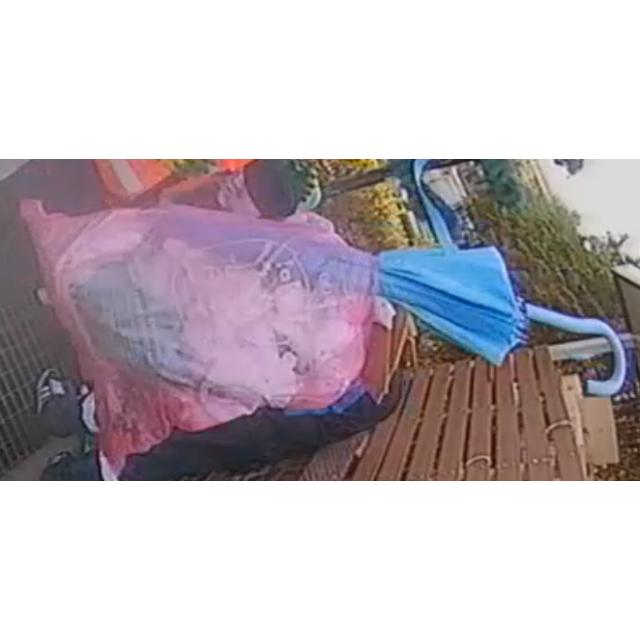other_trashbag: (21, 200, 376, 472)
